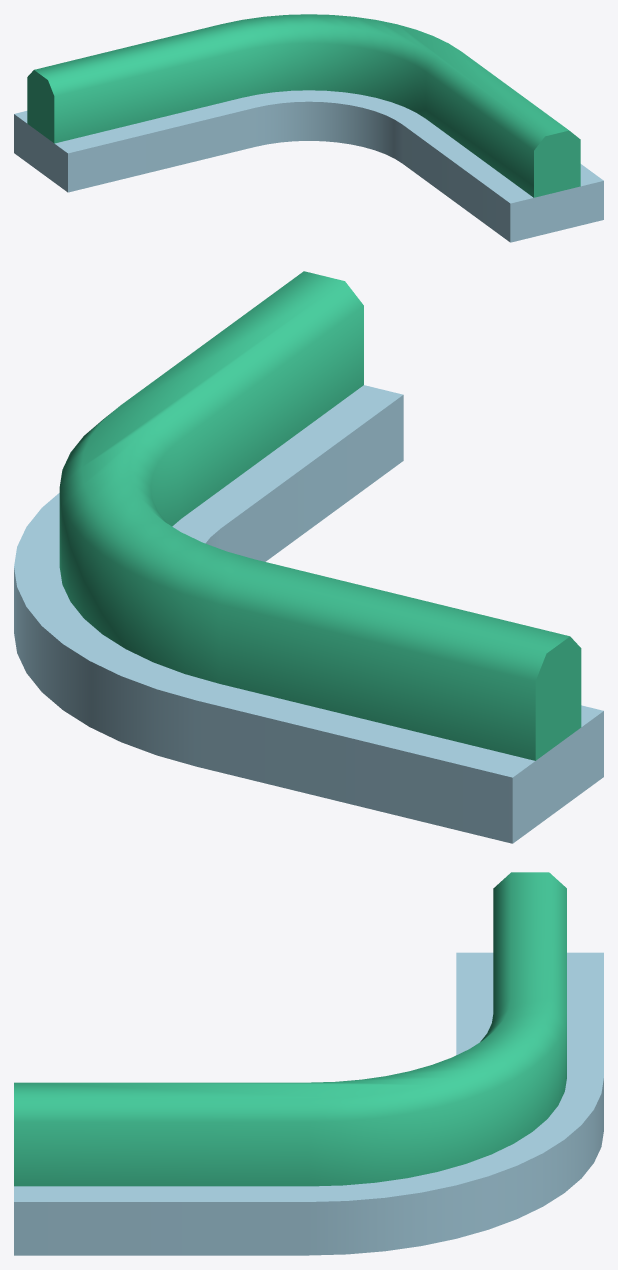
File: hedgeCurved.obj
3 views of the same model, one above another, from view 1: azimuth 30°, elevation 25°; view 2: azimuth 150°, elevation 25°; view 3: azimuth 270°, elevation 25° (orthographic). The views are drawn at different scales.
Visible parts, largest first — view 1: hedgeCurved; view 2: hedgeCurved; view 3: hedgeCurved.
Boxes of the visible parts, box(x1,y1,x2,y2) form: hedgeCurved: box(14, 14, 603, 242); hedgeCurved: box(14, 271, 603, 843); hedgeCurved: box(14, 872, 603, 1255).
Size of the model in its own units: 1 by 0.25 by 1.
